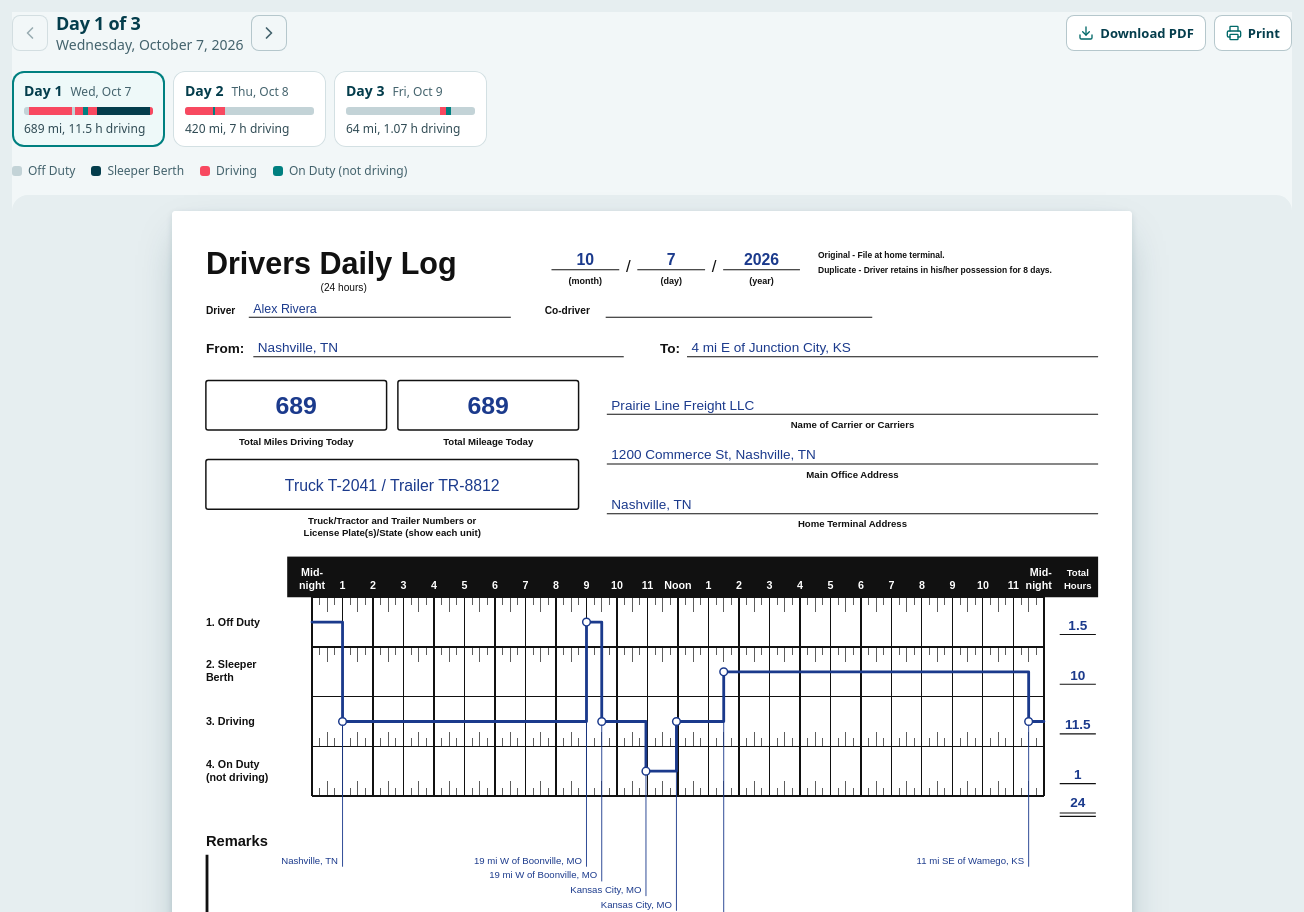
Test: LogViewer › moving between days › disables previous on the first day and next on the last
Check: the button with test id "btn-prev-day" is disabled, box x1=12 y1=15 x2=48 y2=51
Check: the button with test id "btn-next-day" is enabled, box x1=252 y1=15 x2=288 y2=51
Click the tab with test id "day-chip-3": (410, 108) x1=334 y1=70 x2=487 y2=146
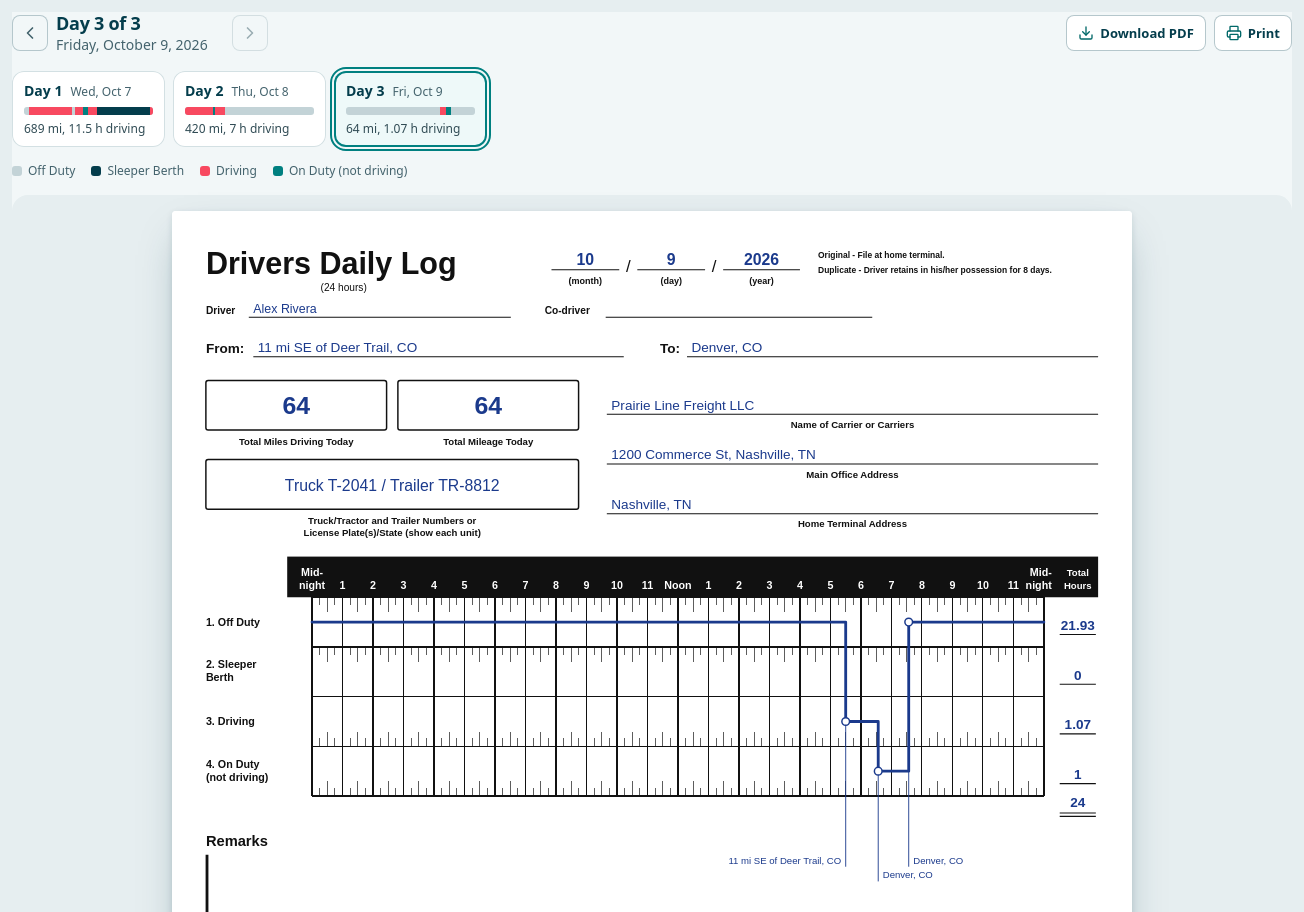
Check: the button with test id "btn-prev-day" is enabled, box x1=12 y1=15 x2=48 y2=51
Check: the button with test id "btn-next-day" is disabled, box x1=232 y1=15 x2=268 y2=51
